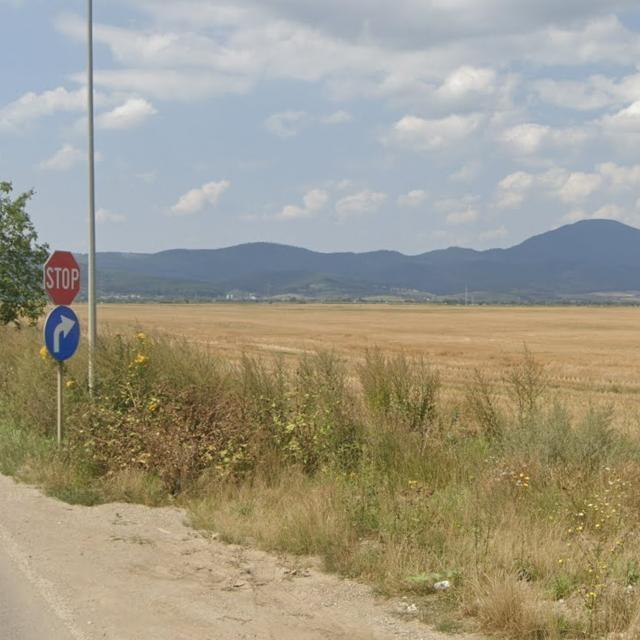prio_stop: (41, 250, 85, 304)
